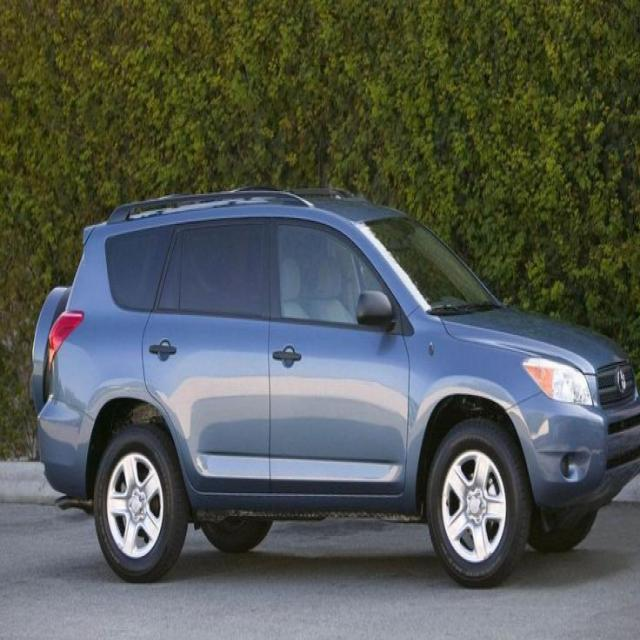light_vehicle: (29, 185, 640, 588)
